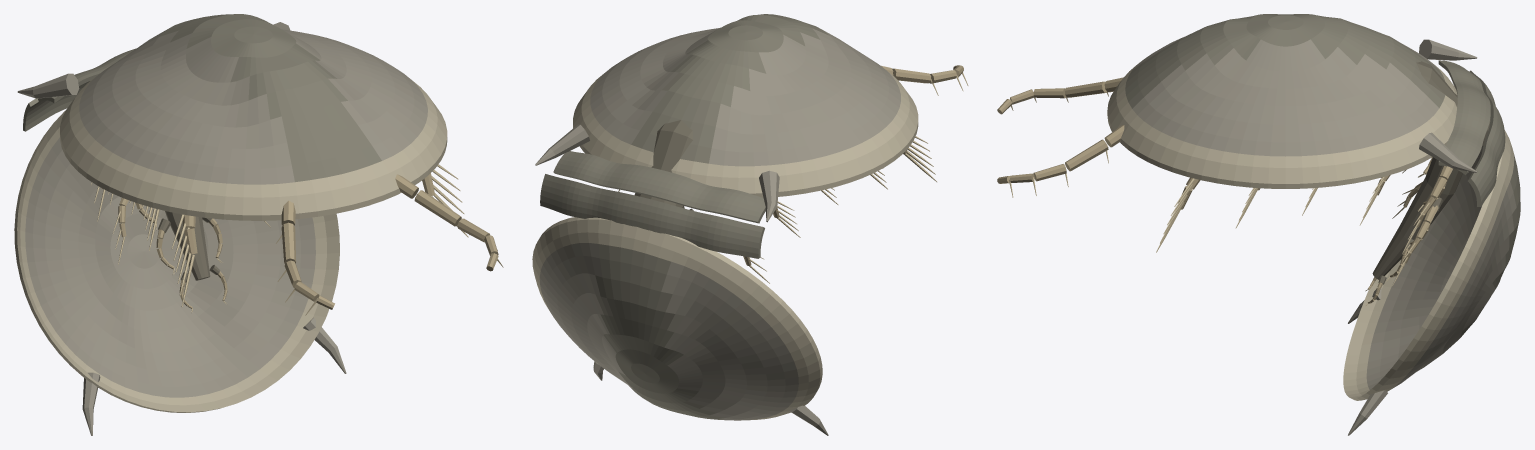
3 renders of one model, left to right at view 1: azimuth 30°, elevation 25°; view 2: azimuth 150°, elevation 25°; view 3: azimuth 270°, elevation 25°, orthographic. The views are drawn at different scales.
Visible parts, largest first — view 1: export-shell-warm-gray, export-border-pale-gray, export-shell-axis, export-limb-cuticle, export-setae, export-ventral-soft-body; view 2: export-shell-warm-gray, export-shell-axis, export-border-pale-gray, export-ventral-soft-body, export-setae, export-limb-cuticle; view 3: export-shell-warm-gray, export-border-pale-gray, export-shell-axis, export-limb-cuticle, export-ventral-soft-body, export-setae.
Part boxes in pixels (<box>): export-shell-warm-gray: <box>17,22,427,435</box>; export-border-pale-gray: <box>14,77,447,412</box>; export-shell-axis: <box>23,14,381,182</box>; export-limb-cuticle: <box>101,173,498,309</box>; export-setae: <box>91,164,503,315</box>; export-ventral-soft-body: <box>158,211,220,282</box>; export-shell-warm-gray: <box>535,27,900,435</box>; export-shell-axis: <box>540,14,829,420</box>; export-border-pale-gray: <box>532,71,918,420</box>; export-ventral-soft-body: <box>634,120,693,210</box>; export-setae: <box>618,72,968,283</box>; export-limb-cuticle: <box>743,65,963,265</box>; export-shell-warm-gray: <box>1132,37,1516,435</box>; export-border-pale-gray: <box>1107,60,1514,400</box>; export-shell-axis: <box>1125,14,1520,367</box>; export-limb-cuticle: <box>997,77,1452,303</box>; export-ventral-soft-body: <box>1372,61,1462,284</box>; export-setae: <box>1009,92,1433,306</box>.
Size of the model in its own units: 0.00082 by 0.000939 by 0.00123.
